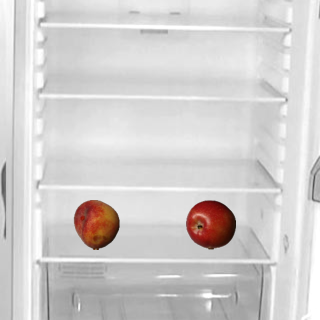Apple Braeburn: (185, 199, 235, 249)
Peach: (71, 199, 121, 249)
